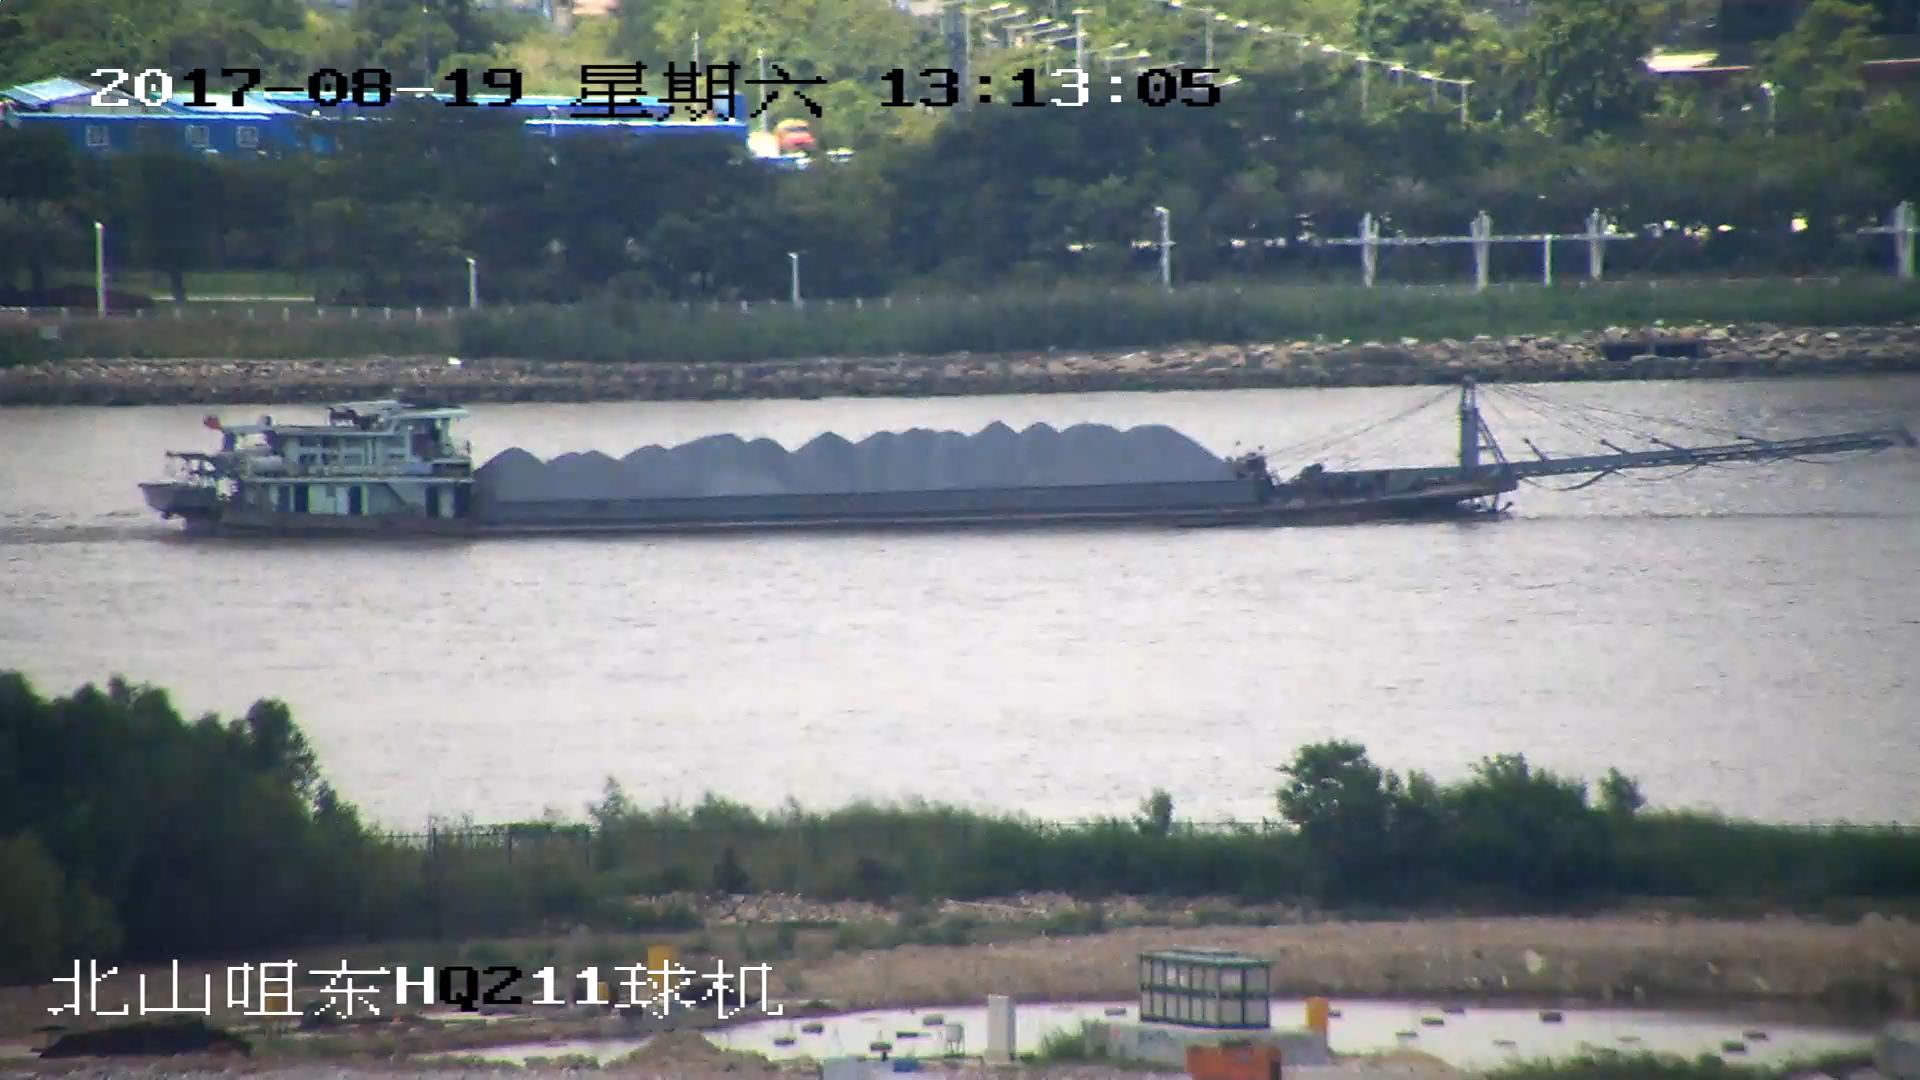ore carrier: (132, 380, 1912, 539)
